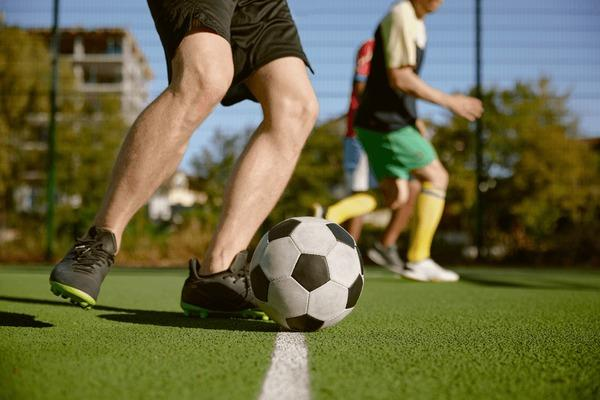ballon_football: (248, 216, 364, 333)
